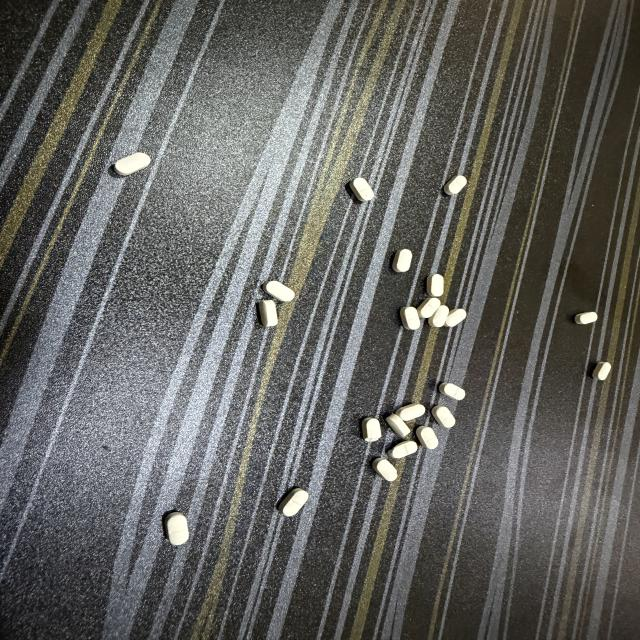pill: (164, 512, 189, 546), (278, 488, 308, 516), (115, 153, 150, 175), (263, 281, 294, 302), (372, 458, 397, 482), (432, 405, 456, 428), (350, 177, 373, 201), (386, 414, 410, 437), (396, 403, 425, 421), (416, 426, 438, 449), (443, 175, 467, 195), (259, 300, 277, 326), (391, 441, 417, 459), (362, 417, 381, 441), (439, 383, 465, 400), (428, 306, 449, 327), (418, 298, 440, 318), (393, 249, 412, 272), (401, 307, 420, 330), (427, 274, 444, 297), (592, 362, 611, 380), (446, 309, 466, 326), (574, 311, 598, 325)
